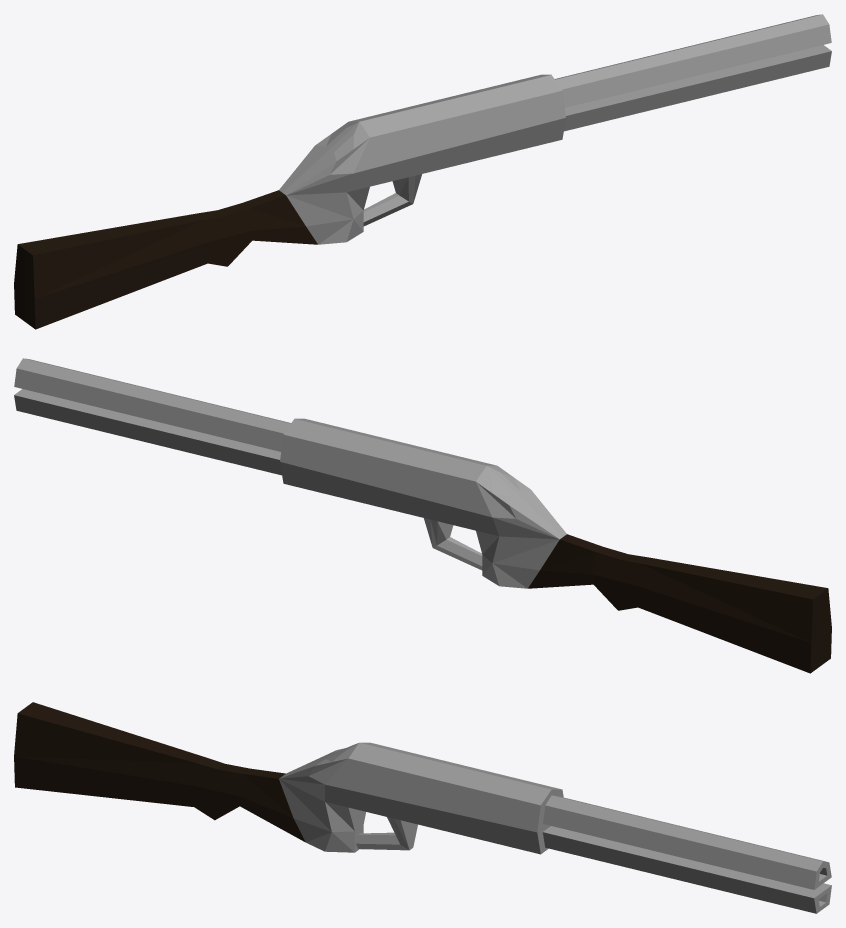
File: ShotGun.obj
The picture shows the model from 3 angles, top to bottom: view 1: azimuth 30°, elevation 25°; view 2: azimuth 150°, elevation 25°; view 3: azimuth 330°, elevation 25°; orthographic projection.
Parts seen in each view (by area): view 1: Cube; view 2: Cube; view 3: Cube.
Part boxes in pixels (x1,y1,x2,y2): Cube: (14, 14, 831, 329); Cube: (14, 358, 831, 673); Cube: (14, 702, 831, 913).
Size of the model in its own units: 34.06 by 4.84 by 2.12.
